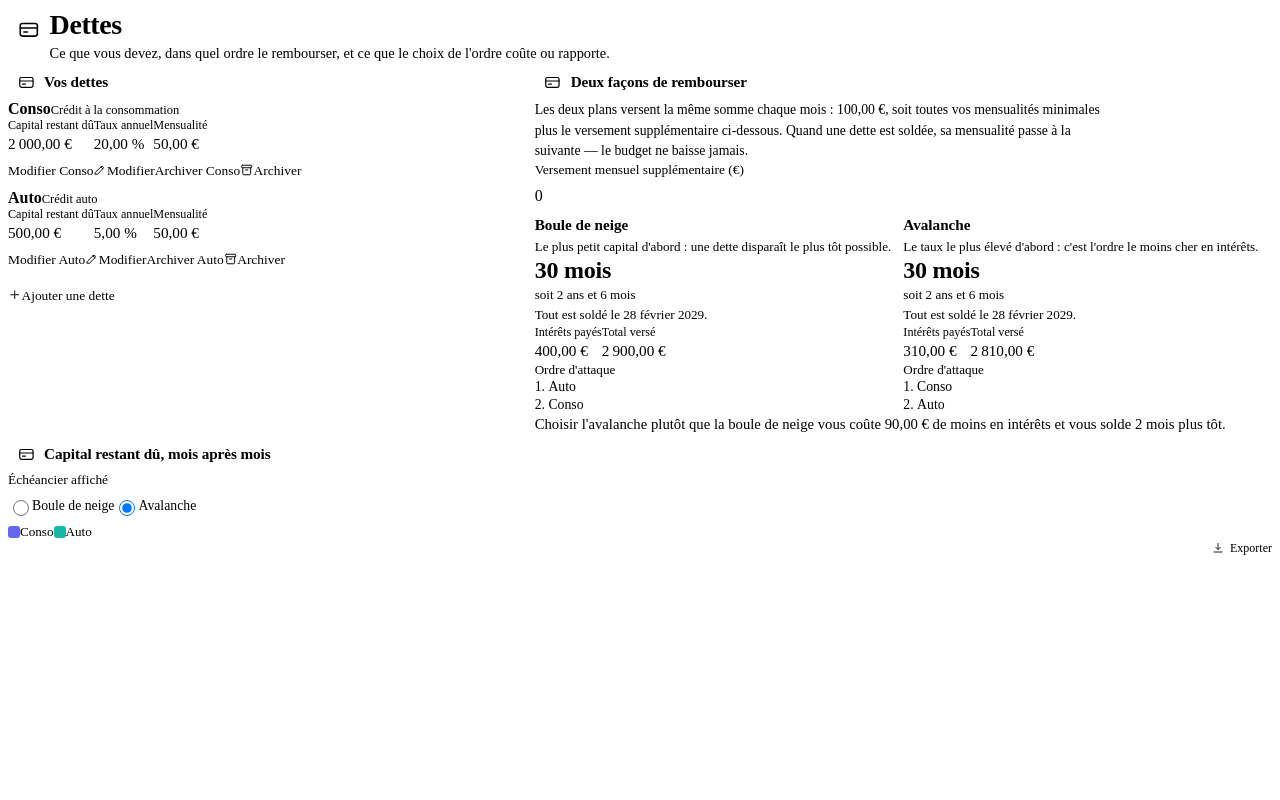
Test: DebtsPage › refuses a negative extra payment at the field, not in a page alert
This screenshot has width=1280, height=800.
Expected: the button "Modifier Conso" is shown, x1=8 y1=153 x2=155 y2=189
Replace the text in the field labelled "Versement mensuel supplémentaire (€)" with "-40" at (599, 196), box x1=535 y1=178 x2=663 y2=214
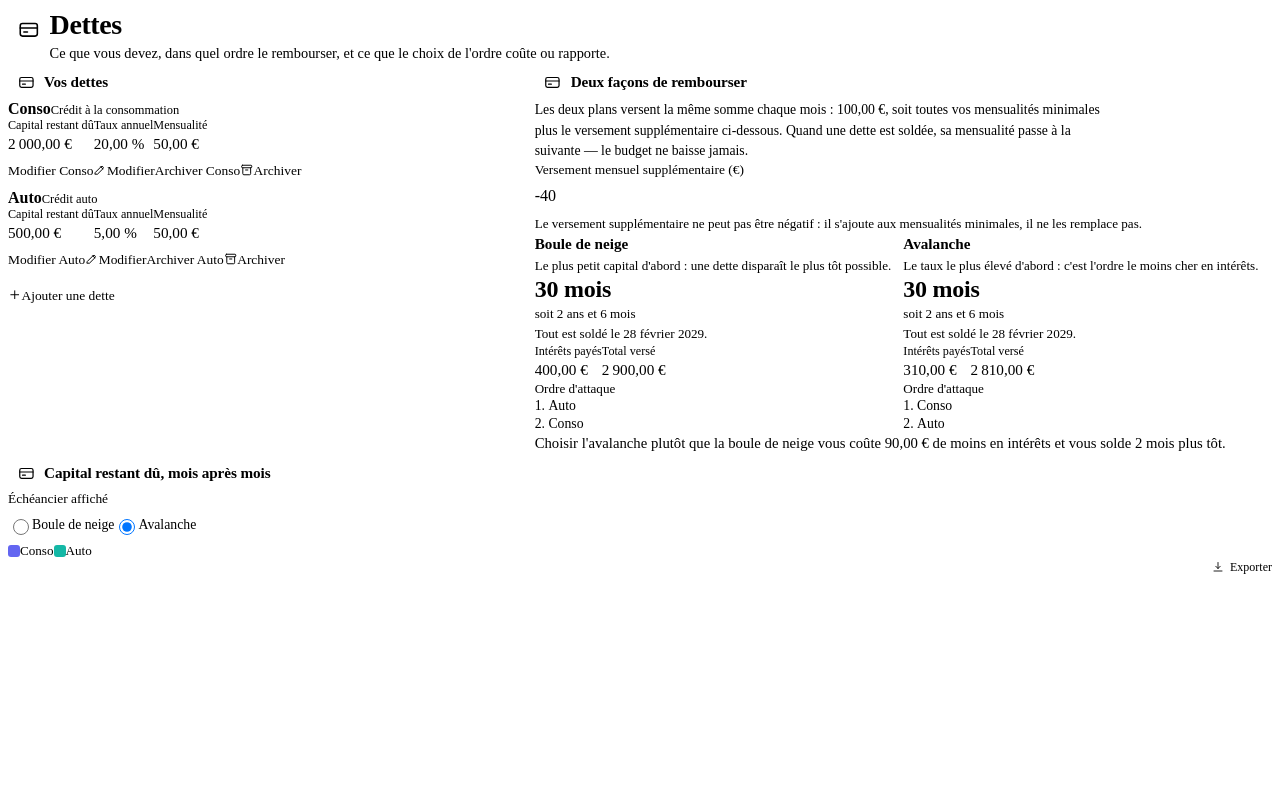
Expected: the text "ne peut pas être négatif" is shown, x1=535 y1=216 x2=1142 y2=231
